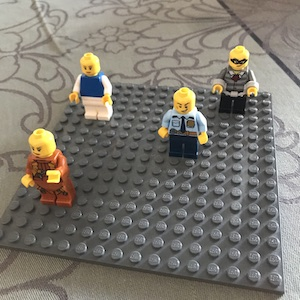Lego: (20, 127, 73, 209), (156, 87, 208, 160), (211, 45, 260, 113), (70, 51, 112, 126)
